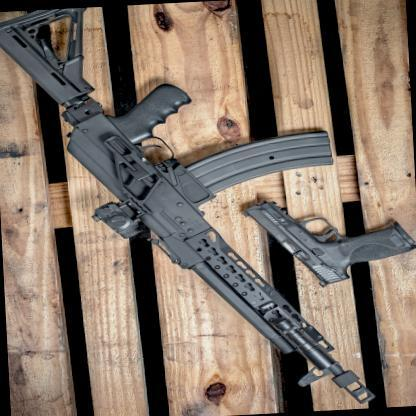rifle: (0, 0, 390, 416), (229, 178, 416, 297)
